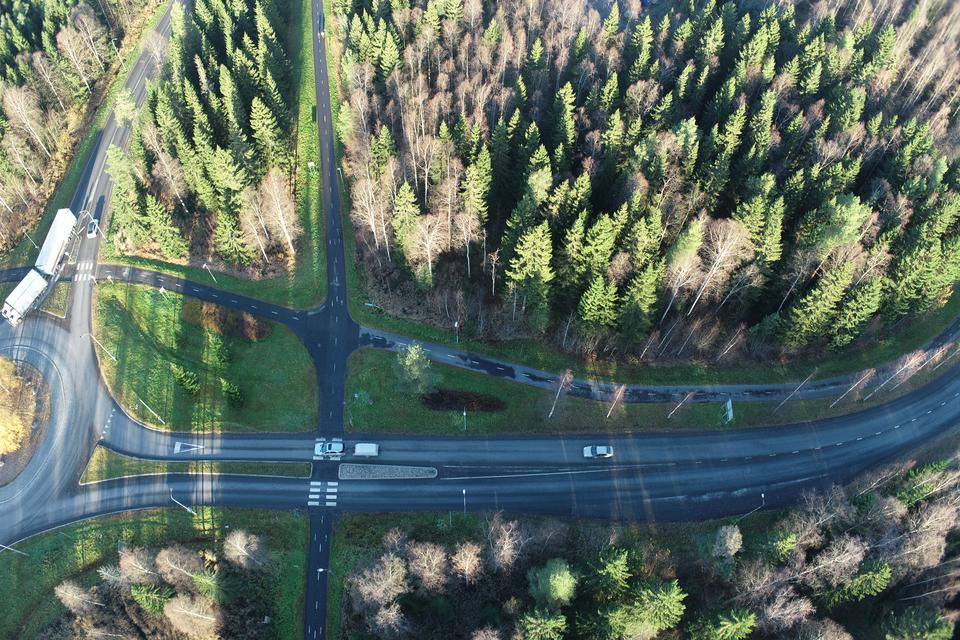intersection: (289, 422, 379, 555), (37, 244, 126, 291)
roundabout: (1, 295, 144, 569)
